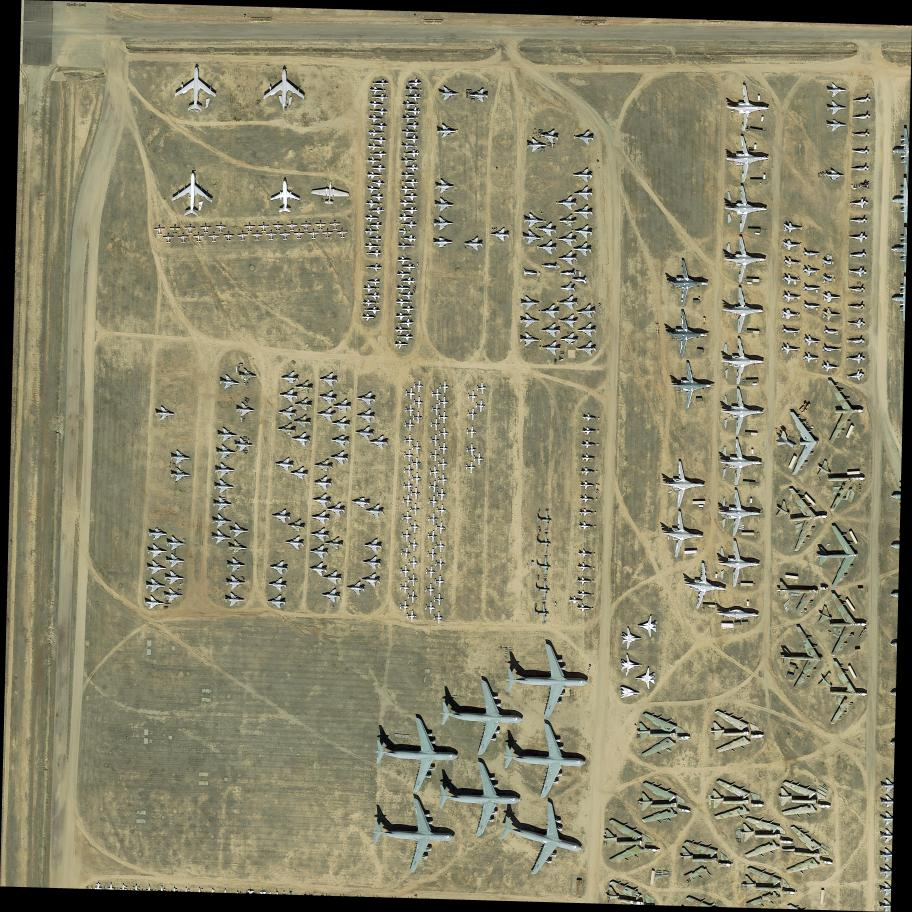plane: (489, 786, 598, 890), (435, 672, 532, 761), (371, 712, 464, 798), (368, 792, 461, 877), (500, 719, 589, 804), (435, 758, 525, 841), (503, 639, 592, 721), (769, 397, 820, 480), (729, 811, 798, 867), (631, 706, 696, 765), (775, 487, 829, 557), (596, 816, 663, 871), (822, 586, 872, 658), (778, 820, 839, 879), (775, 622, 826, 691), (824, 657, 872, 728), (633, 775, 693, 831), (774, 773, 836, 827), (812, 522, 859, 590), (673, 835, 734, 886), (824, 377, 869, 446), (705, 705, 767, 755), (737, 861, 799, 909), (653, 507, 707, 562), (678, 559, 730, 614), (708, 774, 764, 824), (774, 565, 822, 623), (715, 486, 764, 540), (713, 537, 763, 589), (658, 458, 708, 510), (723, 82, 772, 135), (667, 361, 716, 409), (724, 134, 771, 184), (717, 437, 764, 486), (722, 184, 768, 234), (663, 310, 710, 358), (172, 64, 218, 113), (721, 235, 767, 284), (718, 387, 764, 436), (720, 336, 765, 385), (664, 259, 709, 307), (170, 169, 214, 218), (721, 286, 764, 335), (262, 66, 305, 111), (715, 601, 762, 631), (310, 176, 352, 206), (269, 178, 301, 215), (635, 614, 658, 638), (620, 653, 642, 677), (621, 627, 642, 650), (635, 667, 655, 690), (211, 478, 235, 496), (226, 539, 249, 557), (162, 569, 185, 586), (144, 577, 167, 594), (142, 594, 165, 611), (209, 529, 232, 546), (210, 513, 233, 530), (218, 374, 241, 391), (323, 535, 344, 553), (278, 387, 299, 405), (277, 404, 298, 422), (538, 128, 560, 145), (521, 229, 543, 246), (153, 405, 175, 422), (169, 449, 191, 466), (223, 591, 245, 608), (227, 522, 249, 539), (285, 518, 307, 535), (216, 427, 238, 444), (536, 509, 553, 531), (534, 579, 551, 601), (144, 560, 167, 576), (845, 282, 868, 298), (576, 303, 597, 320), (433, 197, 455, 213), (146, 543, 168, 559), (270, 508, 292, 524), (211, 496, 233, 512), (234, 402, 256, 418), (273, 457, 295, 473), (535, 555, 551, 577), (534, 602, 550, 624), (572, 185, 594, 201), (164, 536, 187, 551), (318, 389, 338, 406), (294, 379, 314, 396), (523, 213, 544, 229), (225, 557, 246, 573), (309, 527, 330, 543), (313, 458, 334, 474), (268, 560, 289, 576), (284, 535, 305, 551), (236, 368, 257, 384), (536, 533, 552, 554), (557, 251, 578, 267), (573, 223, 594, 239), (433, 216, 455, 231), (169, 467, 191, 482), (161, 588, 183, 603), (214, 463, 236, 478), (215, 445, 237, 460), (290, 432, 312, 447), (268, 577, 288, 593), (329, 450, 349, 466), (292, 414, 312, 430), (558, 295, 578, 311), (577, 341, 597, 357), (558, 214, 578, 230), (354, 426, 375, 441), (360, 573, 381, 588), (526, 138, 547, 153), (434, 179, 455, 194), (468, 88, 489, 103), (436, 124, 457, 139), (536, 222, 557, 237), (519, 313, 540, 328), (519, 332, 540, 347), (147, 526, 168, 541), (320, 588, 341, 603), (310, 510, 331, 525), (330, 416, 351, 431), (316, 407, 337, 422), (233, 437, 254, 452), (826, 101, 847, 116), (557, 232, 578, 247), (164, 554, 186, 568), (224, 576, 246, 590), (780, 325, 802, 339), (619, 685, 641, 699), (364, 504, 384, 519), (362, 555, 382, 570), (346, 581, 366, 596), (489, 228, 509, 243), (520, 296, 540, 311), (540, 304, 560, 319), (541, 341, 561, 356), (368, 435, 388, 450), (356, 408, 376, 423), (356, 392, 376, 407), (325, 502, 345, 517), (266, 594, 286, 609), (309, 544, 329, 559), (312, 493, 332, 508), (332, 399, 352, 414), (293, 397, 313, 412), (572, 242, 592, 257), (573, 205, 593, 220), (573, 168, 593, 183), (437, 87, 458, 101), (463, 237, 484, 251), (540, 323, 561, 337), (826, 83, 847, 97), (559, 332, 580, 346), (574, 131, 595, 145), (847, 335, 869, 348), (820, 344, 842, 357), (364, 538, 383, 553), (538, 240, 557, 255), (309, 562, 328, 577), (319, 372, 338, 387), (559, 314, 578, 329), (322, 571, 342, 585), (280, 371, 300, 385), (277, 422, 297, 436), (289, 466, 309, 480), (822, 308, 842, 322), (849, 249, 869, 263), (577, 323, 597, 337), (557, 196, 577, 210), (350, 496, 371, 509), (826, 119, 847, 132), (313, 476, 332, 490), (782, 239, 802, 252), (851, 130, 872, 142), (849, 215, 870, 227), (331, 435, 350, 448), (822, 326, 841, 339), (801, 248, 820, 261), (851, 181, 873, 192), (848, 266, 868, 278), (847, 301, 867, 313), (847, 353, 866, 365), (847, 370, 866, 382), (849, 232, 868, 244), (801, 283, 820, 295), (851, 147, 870, 159), (433, 237, 453, 248), (824, 170, 844, 181), (781, 343, 799, 355), (821, 361, 839, 373), (802, 301, 820, 313), (847, 318, 866, 329), (782, 274, 801, 285), (783, 222, 802, 233), (802, 266, 821, 277), (822, 292, 841, 303), (781, 309, 800, 320), (853, 95, 872, 106), (851, 164, 870, 175), (852, 113, 872, 123), (783, 257, 801, 268), (803, 336, 821, 347), (851, 198, 869, 209), (560, 283, 576, 295), (474, 399, 487, 413), (429, 448, 441, 463), (802, 353, 820, 363), (578, 520, 594, 531), (783, 292, 800, 302), (399, 581, 411, 595), (400, 546, 412, 560), (409, 503, 421, 517), (428, 480, 440, 494), (577, 562, 593, 572), (568, 596, 584, 606), (581, 426, 597, 436), (582, 413, 598, 423), (370, 178, 386, 188), (400, 156, 416, 166), (371, 149, 387, 159), (398, 318, 414, 328), (400, 262, 416, 272), (401, 233, 417, 243), (367, 142, 383, 152), (371, 135, 387, 145), (476, 382, 488, 395), (438, 427, 450, 440), (192, 231, 205, 243), (214, 222, 227, 234), (236, 230, 249, 242), (413, 379, 424, 393), (405, 387, 416, 401), (408, 538, 419, 552), (430, 418, 441, 432), (425, 601, 436, 615), (466, 443, 477, 457), (429, 465, 440, 479), (435, 521, 446, 535), (427, 529, 438, 543), (425, 565, 436, 579), (335, 228, 349, 239), (404, 85, 421, 94), (577, 576, 592, 586), (366, 170, 381, 180), (400, 276, 415, 286), (364, 241, 379, 251), (369, 99, 384, 109), (407, 78, 422, 88), (162, 232, 174, 244), (177, 232, 189, 244), (184, 223, 196, 235), (199, 223, 211, 235), (398, 333, 414, 342), (398, 213, 414, 222), (402, 206, 418, 215), (369, 206, 385, 215), (403, 178, 419, 187), (370, 164, 386, 173), (395, 312, 411, 321), (361, 313, 377, 322), (365, 306, 381, 315), (396, 270, 412, 279), (400, 142, 416, 151), (401, 128, 417, 137), (372, 122, 388, 131), (368, 114, 384, 123), (401, 114, 417, 123), (372, 107, 388, 116), (411, 457, 422, 470), (404, 449, 415, 462), (404, 419, 415, 432), (413, 396, 424, 409), (411, 472, 422, 485), (467, 390, 478, 403), (438, 396, 449, 409), (431, 403, 442, 416), (467, 408, 478, 421), (466, 426, 477, 439), (438, 411, 449, 424), (403, 479, 414, 492), (406, 610, 417, 623), (407, 574, 418, 587), (410, 487, 421, 500), (401, 529, 412, 542), (402, 511, 413, 524), (402, 494, 413, 507), (430, 434, 441, 447), (438, 442, 449, 455), (433, 612, 444, 625), (465, 461, 476, 474), (436, 488, 447, 501), (428, 495, 439, 508), (436, 504, 447, 517), (427, 548, 438, 561), (434, 575, 445, 588), (314, 221, 327, 232), (328, 220, 341, 231), (153, 225, 166, 236), (257, 222, 270, 233), (405, 403, 415, 417), (435, 539, 445, 553), (369, 192, 383, 202), (364, 227, 378, 237), (404, 134, 418, 144), (394, 340, 409, 349), (577, 590, 592, 599), (578, 549, 593, 558), (579, 508, 594, 517), (580, 481, 595, 490), (581, 454, 596, 463), (581, 440, 596, 449), (366, 185, 381, 194), (403, 192, 418, 201), (367, 221, 382, 230), (401, 171, 416, 180), (367, 156, 382, 165), (404, 164, 419, 173), (404, 149, 419, 158), (402, 220, 417, 229), (362, 299, 377, 308), (366, 291, 381, 300), (396, 298, 411, 307), (363, 284, 378, 293), (367, 263, 382, 272), (368, 129, 383, 138), (406, 107, 421, 116), (402, 100, 417, 109), (373, 93, 388, 102), (369, 86, 384, 95), (406, 93, 421, 102), (411, 442, 422, 454), (399, 601, 410, 613), (407, 591, 418, 603), (408, 557, 419, 569), (409, 521, 420, 533), (473, 453, 484, 465), (437, 458, 448, 470), (435, 558, 446, 570), (293, 229, 305, 240), (169, 224, 181, 235), (208, 232, 220, 243), (222, 231, 234, 242), (251, 230, 263, 241), (265, 229, 277, 240), (272, 221, 284, 232), (404, 434, 414, 447), (432, 388, 442, 401), (404, 464, 414, 477), (400, 565, 410, 578), (434, 593, 444, 606), (425, 583, 435, 596), (438, 473, 448, 486), (428, 512, 438, 525), (285, 222, 298, 232), (368, 249, 381, 259), (373, 79, 389, 87), (581, 467, 595, 476), (401, 185, 415, 194), (400, 291, 414, 300), (368, 235, 382, 244), (405, 121, 419, 130), (413, 412, 423, 424), (439, 381, 449, 393), (307, 229, 319, 239), (321, 229, 333, 239), (300, 221, 312, 231), (279, 230, 291, 240), (243, 223, 255, 233), (577, 604, 592, 612), (580, 495, 595, 503), (395, 326, 410, 334), (399, 199, 414, 207), (365, 214, 380, 222), (366, 200, 381, 208), (396, 284, 411, 292), (397, 256, 412, 264), (398, 242, 413, 250), (367, 278, 381, 286)
